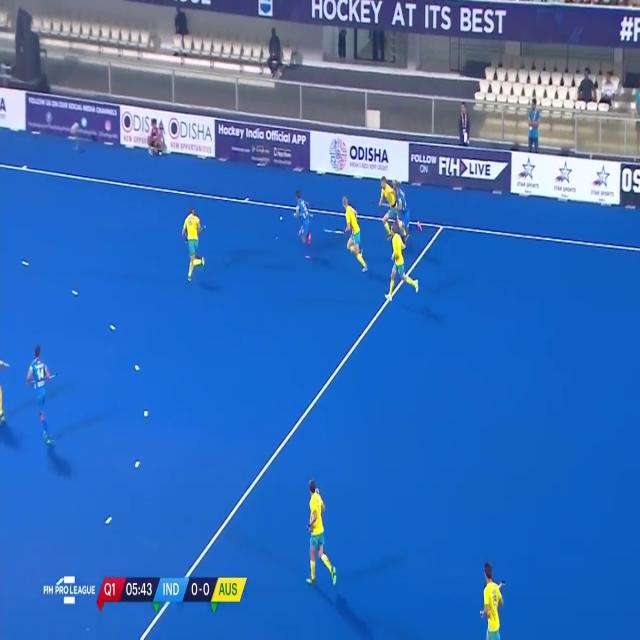ball: (279, 214, 284, 222)
